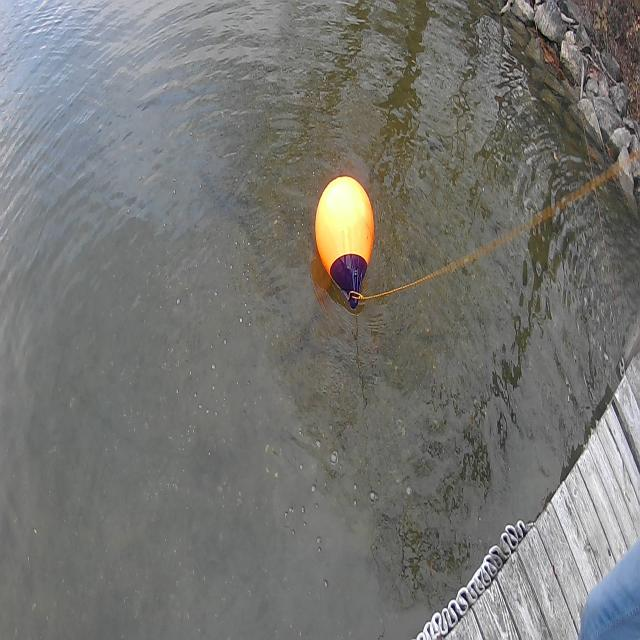Buoy: (312, 160, 383, 324)
